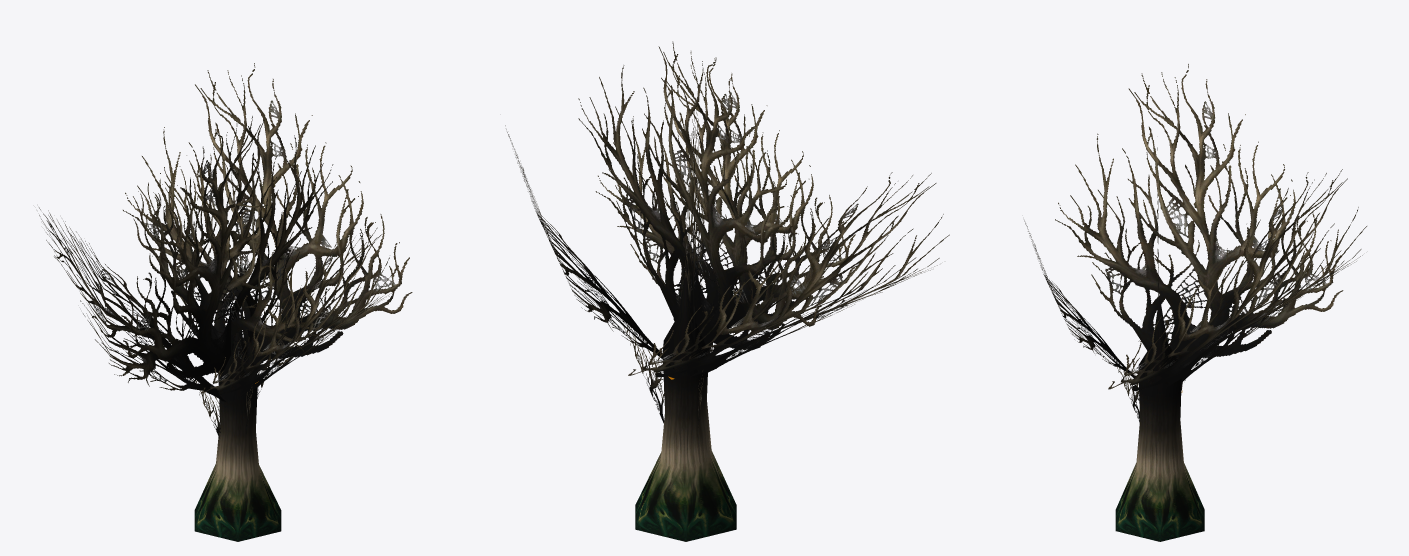
Rendered from Tree1.obj.
3 renders of one model, left to right at view 1: azimuth 30°, elevation 25°; view 2: azimuth 150°, elevation 25°; view 3: azimuth 270°, elevation 25°, orthographic. The views are drawn at different scales.
Parts seen in each view (by area): view 1: world/azeroth/duskwood/passivedoodads/trees/duskwoodspookytree01; view 2: world/azeroth/duskwood/passivedoodads/trees/duskwoodspookytree01; view 3: world/azeroth/duskwood/passivedoodads/trees/duskwoodspookytree01.
Part boxes in pixels (<box>): world/azeroth/duskwood/passivedoodads/trees/duskwoodspookytree01: <box>39,63,412,541</box>; world/azeroth/duskwood/passivedoodads/trees/duskwoodspookytree01: <box>505,41,949,541</box>; world/azeroth/duskwood/passivedoodads/trees/duskwoodspookytree01: <box>1024,64,1366,541</box>.
Size of the model in its own units: 65.93 by 70 by 55.18.
Materials: 3 (3 with a texture image).
